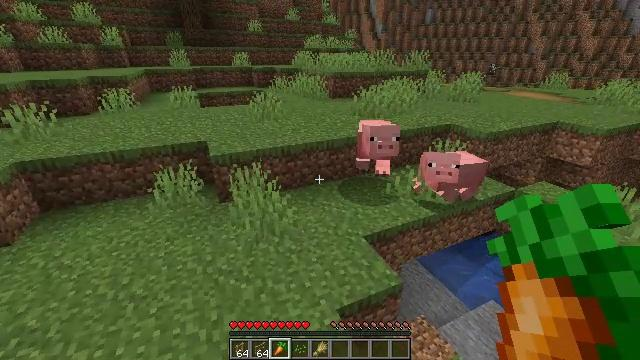pig: (418, 153, 485, 200), (357, 121, 398, 176)
